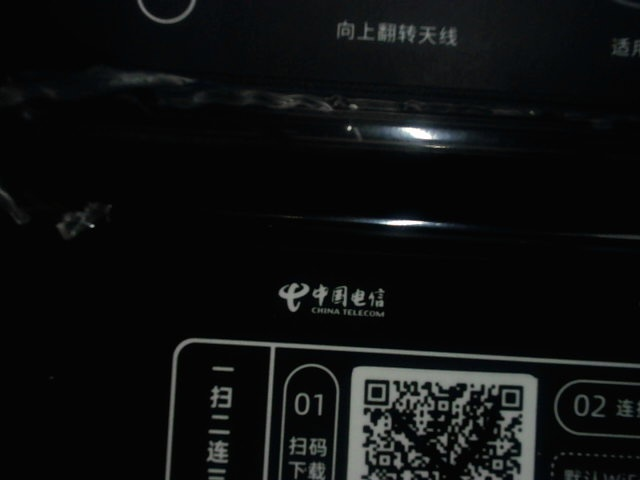AB_ChinaTelecom: (270, 272, 391, 324)
